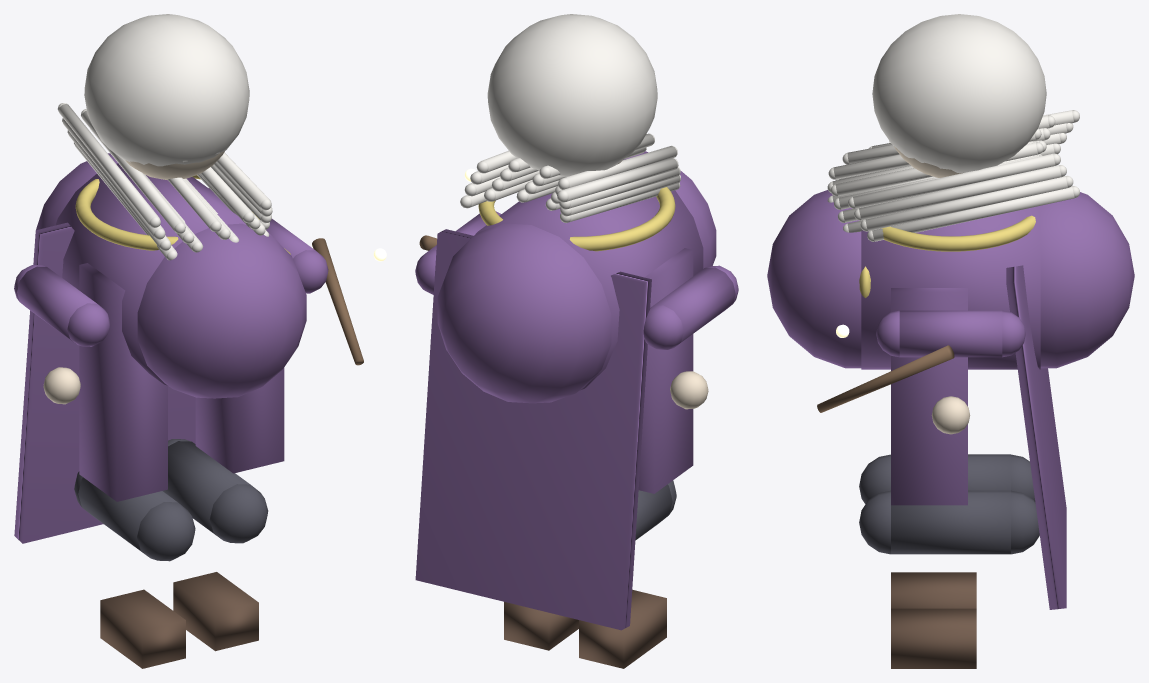
File: dumbledore.glb
3 renders of one model, left to right at view 1: azimuth 30°, elevation 25°; view 2: azimuth 150°, elevation 25°; view 3: azimuth 270°, elevation 25°, orthographic. The views are drawn at different scales.
Parts seen in each view (by area): view 1: torso_top, crown, cloak, robe_panel_l, torso_body, robe_panel_r, boot, boot.001, thigh_body.001, upperL_body, thigh_top.001, thigh_top (+15 smaller); view 2: cloak, torso_bot, crown, torso_body, robe_panel_l, boot, upperL_body, boot.001, trim, torso_top, lock_0_body, upperL_bot (+7 smaller); view 3: crown, torso_body, torso_bot, torso_top, robe_panel_r, cloak, thigh_body.001, boot.001, upperR_body, boot, lock_16_body, lock_17_body (+15 smaller).
Part boxes in pixels (x1,y1,x2,y2): torso_top: [137, 223, 306, 398]; crown: [84, 14, 249, 166]; cloak: [14, 188, 211, 543]; robe_panel_l: [79, 263, 167, 501]; torso_body: [56, 163, 272, 385]; robe_panel_r: [195, 368, 284, 473]; boot: [100, 589, 185, 668]; boot.001: [173, 572, 258, 651]; thigh_body.001: [163, 441, 250, 538]; upperL_body: [17, 266, 96, 343]; thigh_top.001: [209, 484, 268, 543]; thigh_top: [137, 502, 195, 561]; cloak: [415, 229, 651, 630]; torso_bot: [437, 223, 611, 403]; crown: [487, 14, 657, 176]; torso_body: [473, 159, 703, 390]; robe_panel_l: [638, 248, 693, 493]; boot: [579, 589, 666, 668]; upperL_body: [653, 267, 735, 345]; boot.001: [504, 602, 578, 650]; trim: [478, 187, 675, 251]; torso_top: [626, 151, 716, 268]; lock_0_body: [563, 158, 677, 201]; upperL_bot: [643, 305, 683, 350]; crown: [872, 14, 1046, 173]; torso_body: [861, 206, 1040, 369]; torso_bot: [1040, 192, 1134, 368]; torso_top: [767, 190, 861, 368]; robe_panel_r: [891, 288, 967, 505]; cloak: [1006, 265, 1066, 609]; thigh_body.001: [891, 490, 1010, 554]; boot.001: [891, 608, 976, 668]; upperR_body: [899, 310, 1002, 357]; boot: [891, 572, 976, 608]; lock_16_body: [853, 153, 1055, 208]; lock_17_body: [859, 165, 1061, 220].
Size of the model in its own units: 0.7987 by 1.6 by 0.86.
